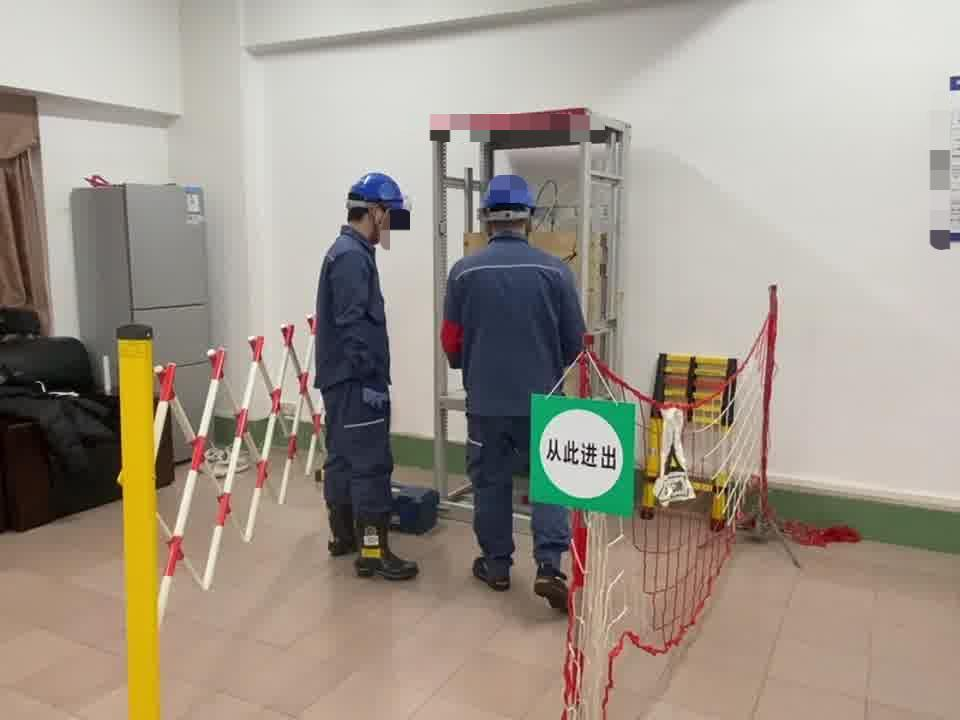halt: (348, 173, 411, 242), (480, 176, 541, 239)
inear: (365, 202, 391, 236)
